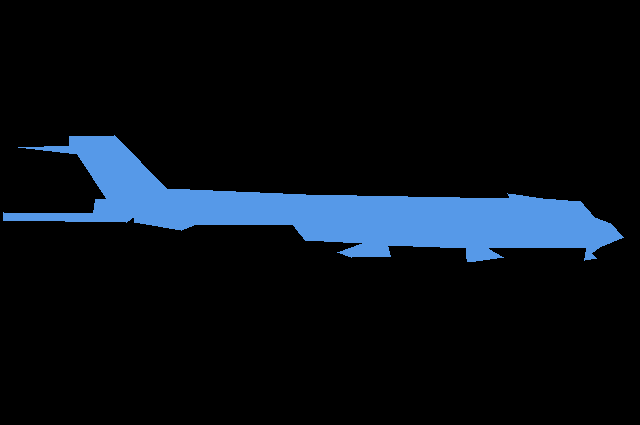Airplane: (3, 135, 623, 262)
